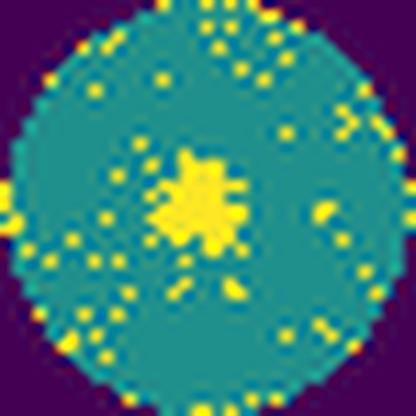Center: (142, 146, 254, 265)
